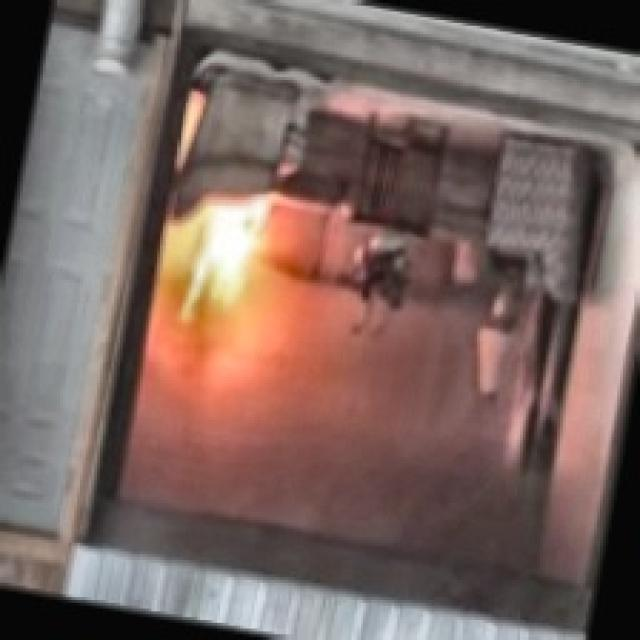fire: (154, 196, 280, 370)
